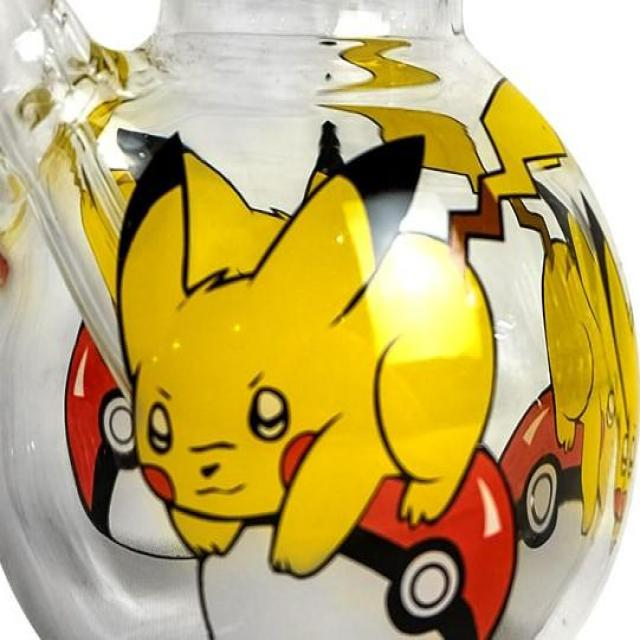pikachu: (115, 80, 571, 577)
